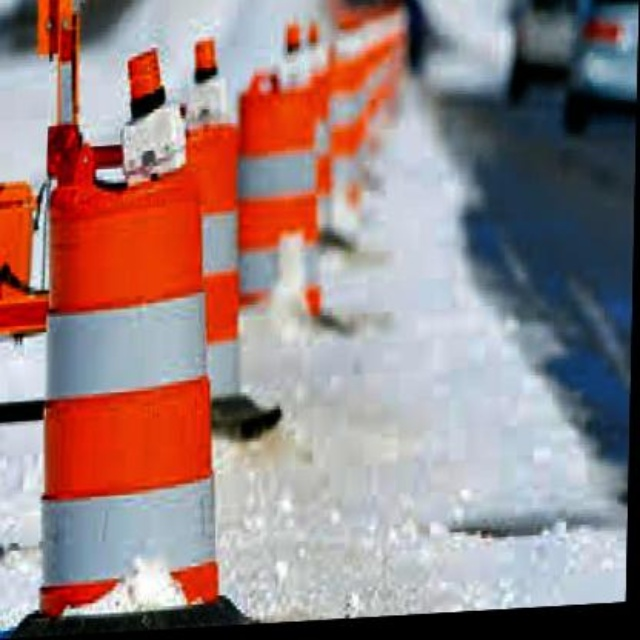obstacle: (31, 168, 233, 630)
